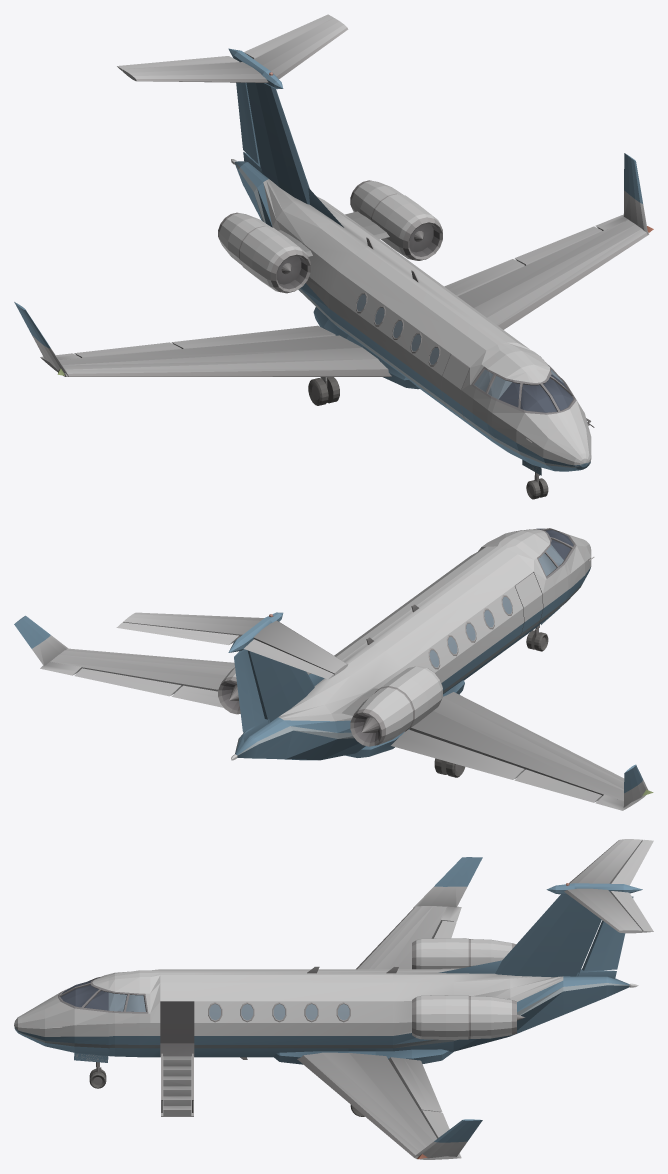
The model's file is bizjet.glb.
3 renders of one model, top to bottom at view 1: azimuth 30°, elevation 25°; view 2: azimuth 150°, elevation 25°; view 3: azimuth 270°, elevation 25°, orthographic. The views are drawn at different scales.
Visible parts, largest first — view 1: bizjet; view 2: bizjet; view 3: bizjet.
Boxes of the visible parts, <box> form: bizjet: <box>14,14,653,499</box>; bizjet: <box>14,528,653,810</box>; bizjet: <box>14,839,653,1159</box>.
Bounding box in the file's own units: 16.48 × 5.93 × 16.92.
